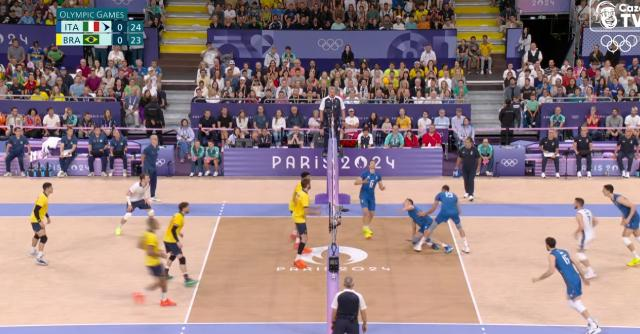Levantador: (359, 160, 383, 235), (163, 202, 190, 264)
Libero: (572, 197, 596, 277), (125, 170, 152, 224)
bola: (382, 76, 388, 85)
